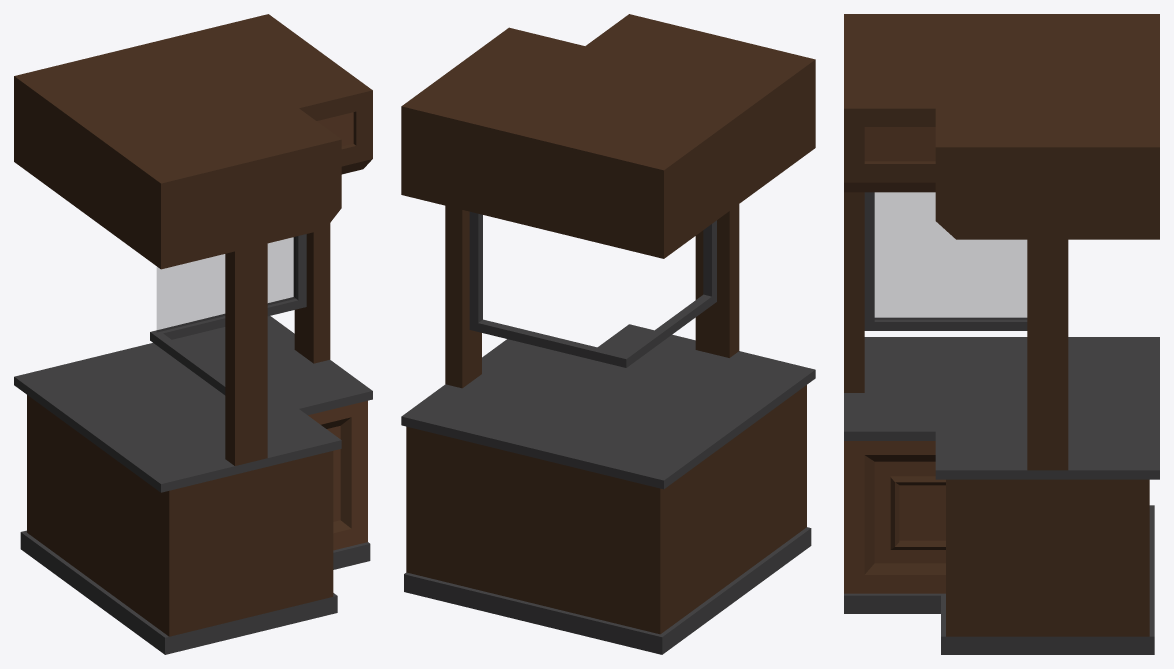
File: SM_Counter_02_corner2.glb
3 views of the same model, side by side, from view 1: azimuth 30°, elevation 25°; view 2: azimuth 150°, elevation 25°; view 3: azimuth 270°, elevation 25° (orthographic). The views are drawn at different scales.
Visible parts, largest first — view 1: SM_Counter_02_corner2; view 2: SM_Counter_02_corner2; view 3: SM_Counter_02_corner2.
Part boxes in pixels (bbox=[...]): SM_Counter_02_corner2: bbox=[14, 14, 372, 654]; SM_Counter_02_corner2: bbox=[401, 14, 815, 654]; SM_Counter_02_corner2: bbox=[844, 14, 1159, 654].
Size of the model in its own units: 1.55 by 2.75 by 1.55.
2 materials, 1 textured.
